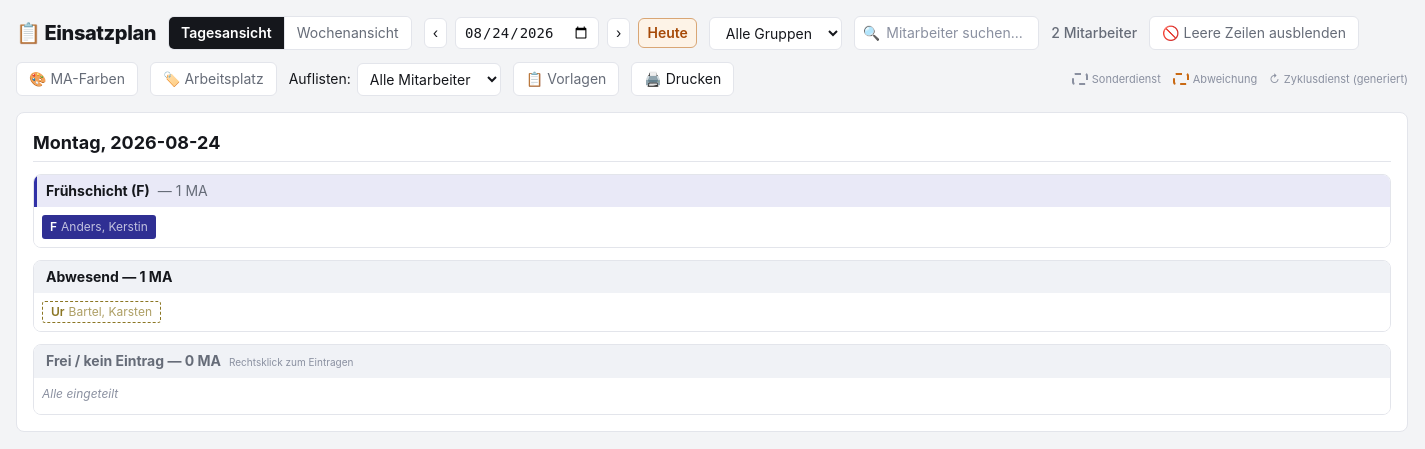
Test: Einsatzplan — Anzeigeoptionen (Spec 4.11.10-3a/b) › Arbeitsplatz voranstellen: „<Arbeitsplatz>: <Name>" nur bei Diensten mit Arbeitsplatz
This screenshot has width=1425, height=449.
Click the button "Wochenansicht" at point(347, 33), box [284,17,411,49]
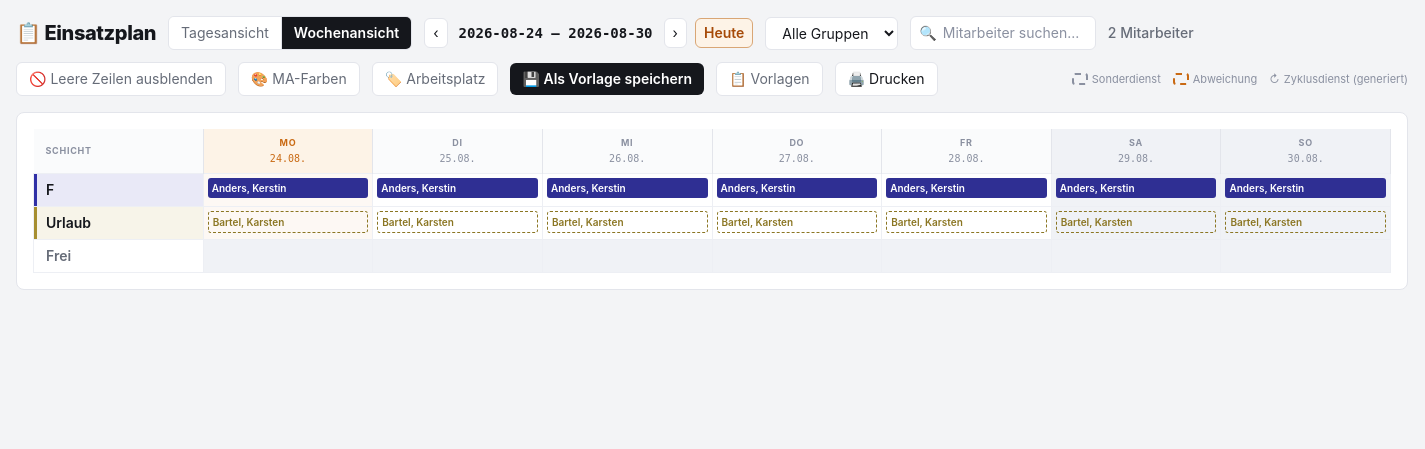
Click the button "🏷️ Arbeitsplatz" at point(435, 79), box [372,62,498,96]
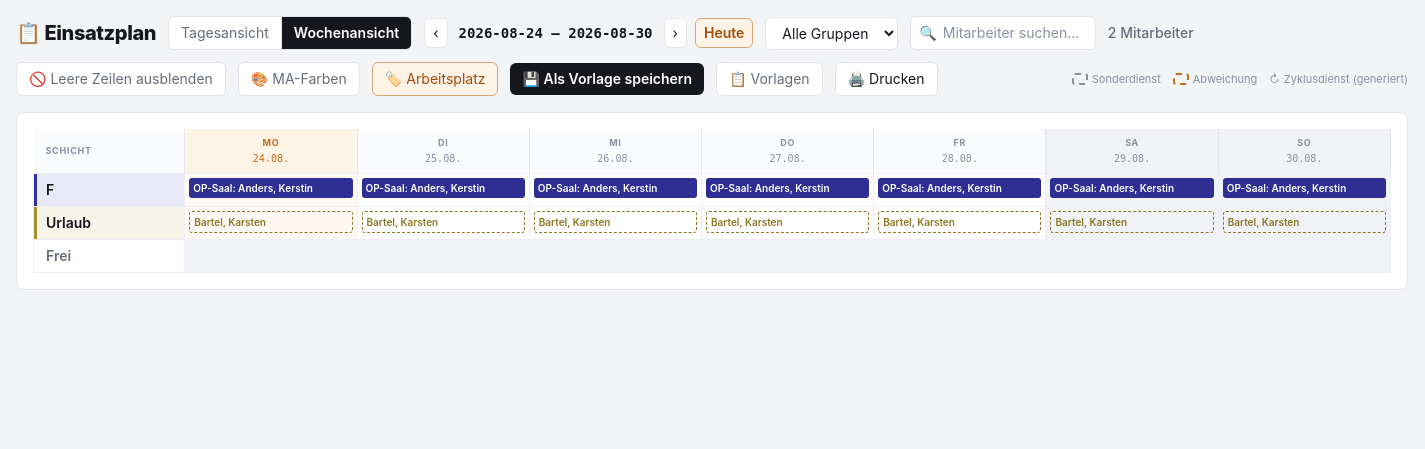
Result: the 1st text "Bartel, Karsten" is shown at [189,211,352,233]
Result: the 1st text "OP-Saal: Anders, Kerstin" is shown at [189,178,352,198]
